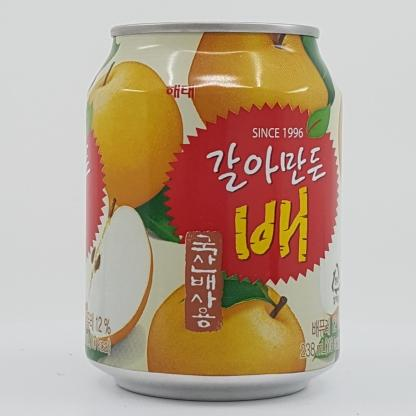-------238ML: (86, 22, 342, 402)
